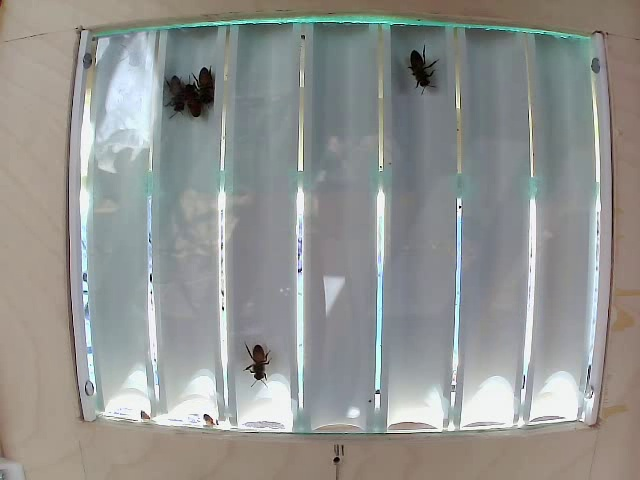bee: (237, 330, 285, 395), (403, 39, 434, 99), (195, 68, 226, 111), (167, 67, 192, 114), (181, 79, 206, 121)
